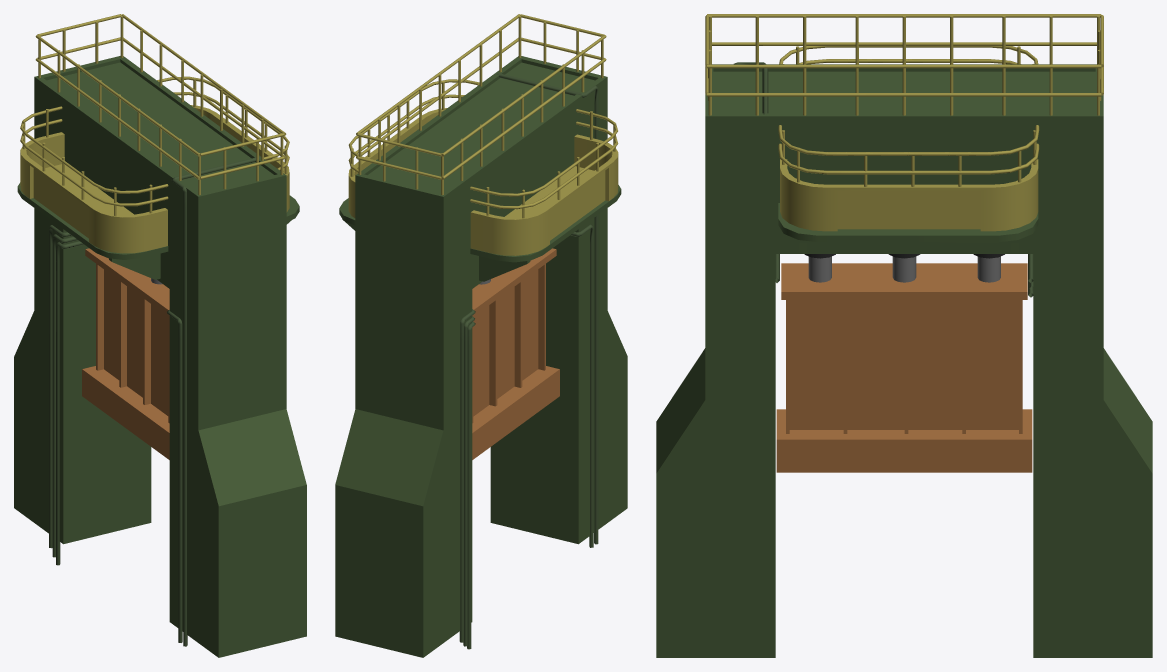
File: hydraulic press.fbx
3 views of the same model, side by side, from view 1: azimuth 30°, elevation 25°; view 2: azimuth 150°, elevation 25°; view 3: azimuth 270°, elevation 25° (orthographic). The views are drawn at different scales.
Parts seen in each view (by area): view 1: polySurface1; view 2: polySurface1; view 3: polySurface1.
Part boxes in pixels (<box>): polySurface1: <box>14,14,306,657</box>; polySurface1: <box>335,14,627,657</box>; polySurface1: <box>656,14,1152,657</box>.
Size of the model in its own units: 186 by 456 by 330.
